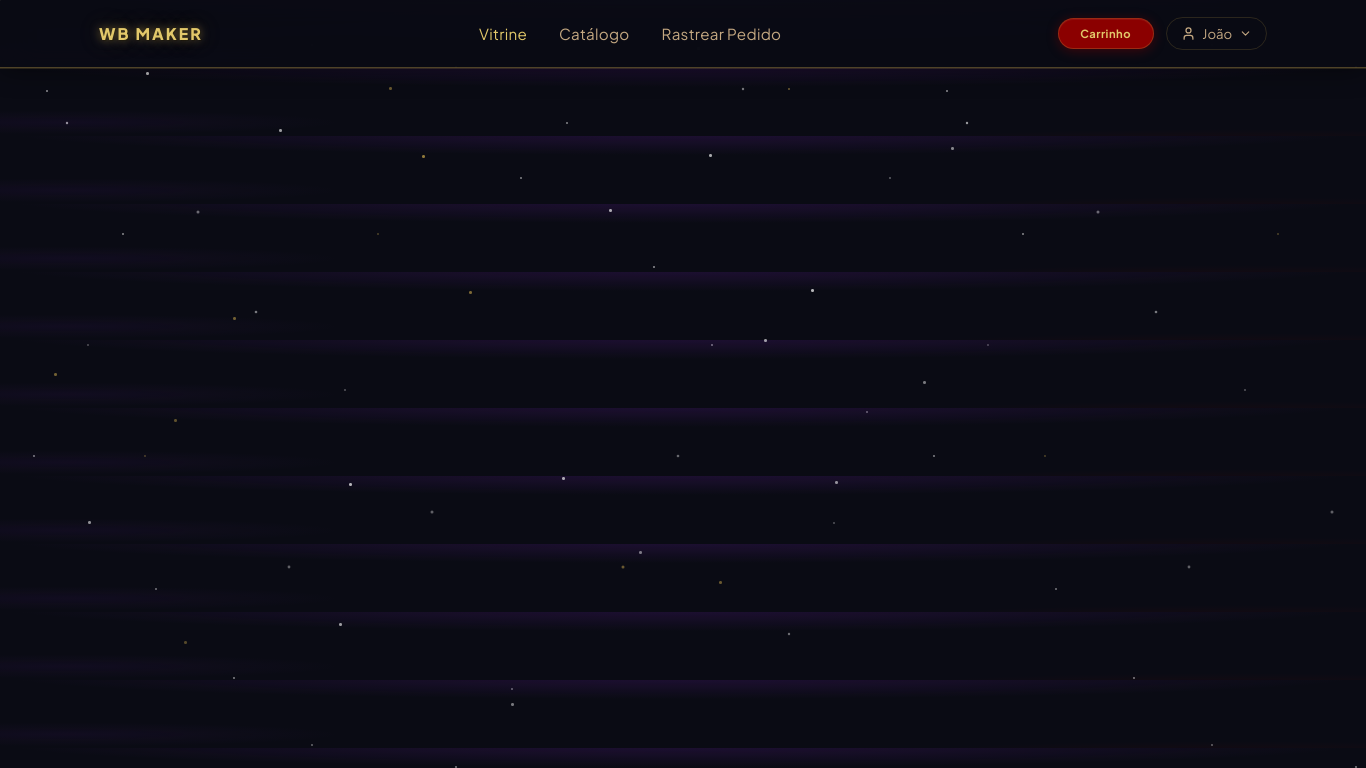
Header › usuário autenticado (cliente) › exibe "Minha Conta" no dropdown
Click the button "João". click: coordinates (1216, 34)
box: [1166, 17, 1267, 50]
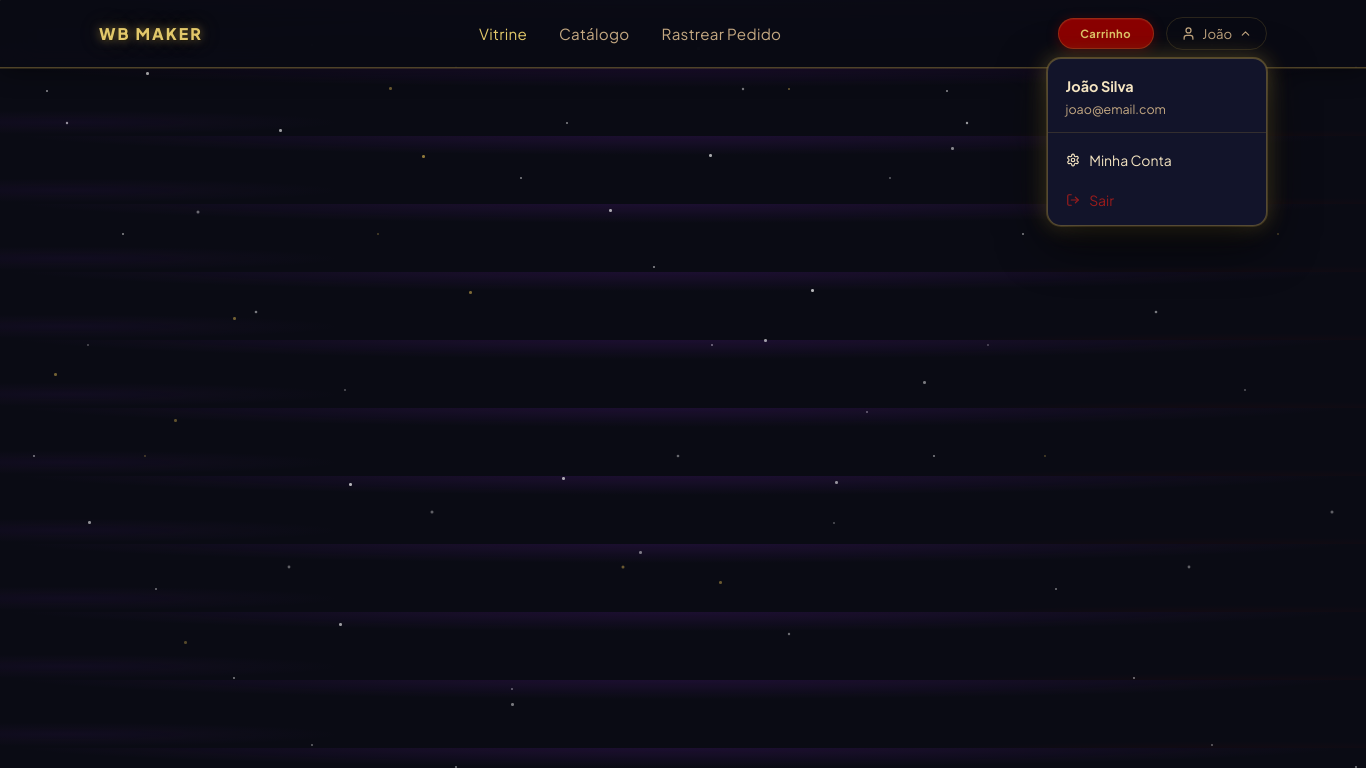
Now the link "Minha Conta" is shown, box [1066, 151, 1172, 169]
